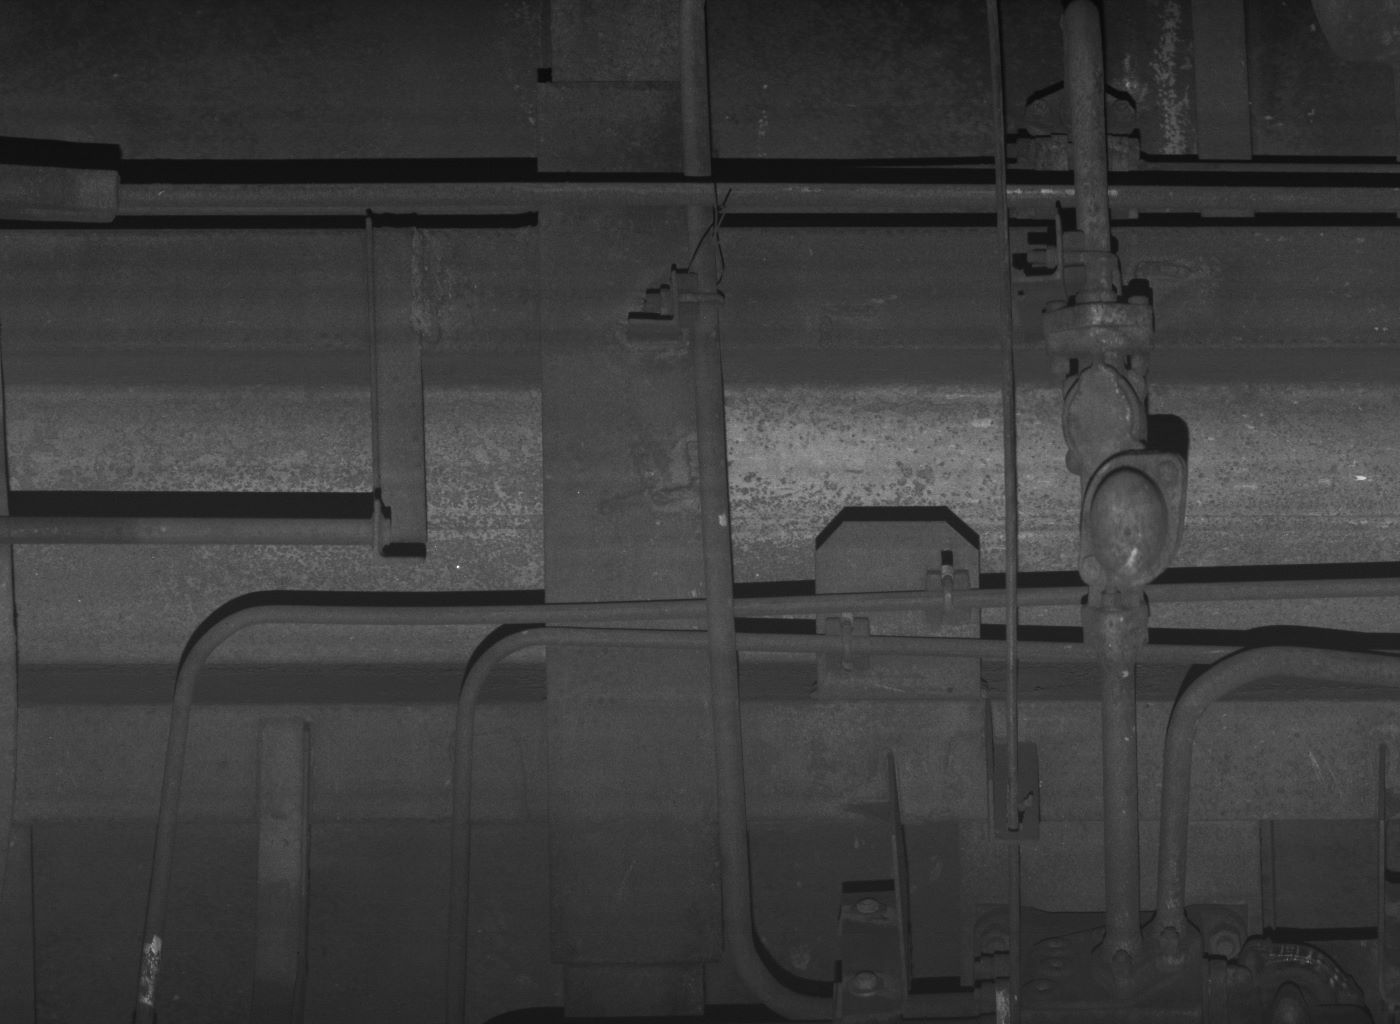normal: (1063, 360, 1146, 474)
